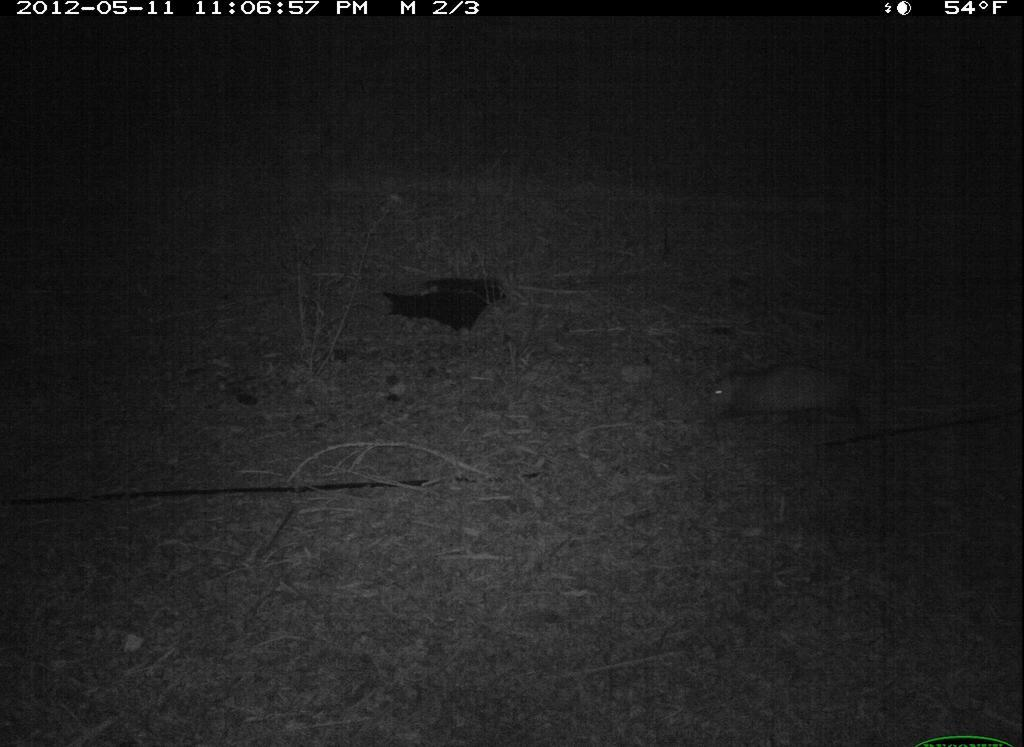opossum: (706, 350, 898, 437)
